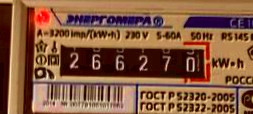0: (184, 54, 195, 74)
2: (67, 50, 81, 71), (137, 53, 149, 73)
6: (90, 52, 102, 72), (114, 53, 126, 72)
7: (160, 53, 172, 73)
screen: (46, 32, 221, 92)
